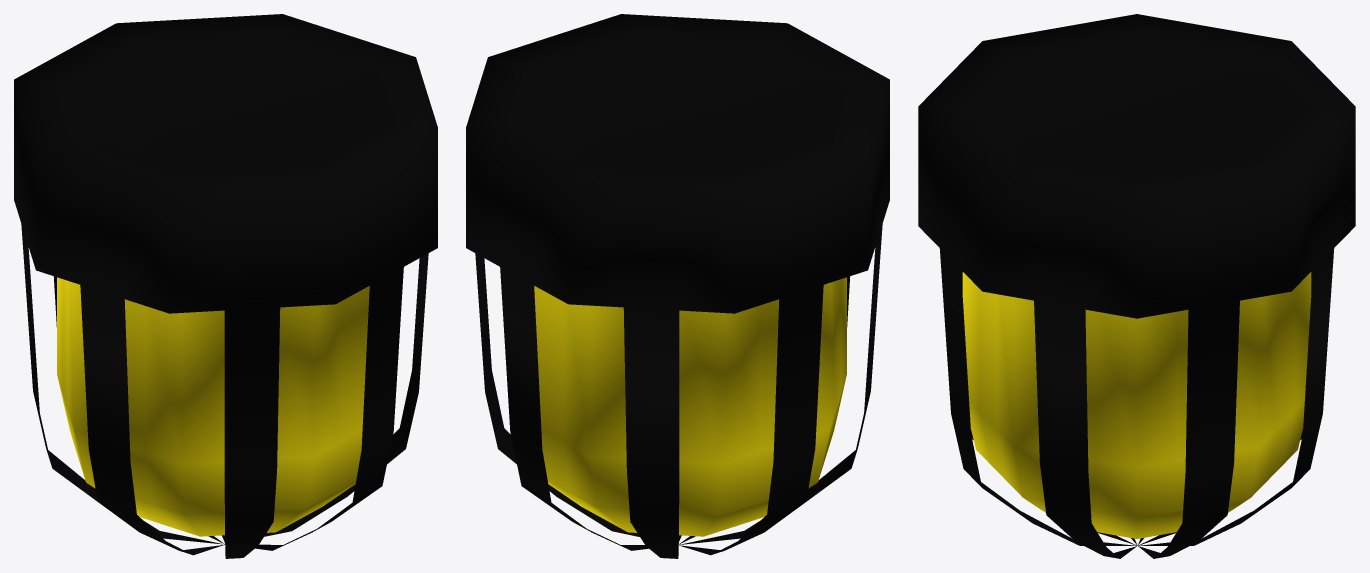
Rendered from lamp.glb.
3 renders of one model, left to right at view 1: azimuth 30°, elevation 25°; view 2: azimuth 150°, elevation 25°; view 3: azimuth 270°, elevation 25°, orthographic.
Visible parts, largest first — view 1: Cylinder; view 2: Cylinder; view 3: Cylinder.
Part boxes in pixels (<box>): Cylinder: <box>14,14,437,558</box>; Cylinder: <box>466,14,889,558</box>; Cylinder: <box>918,14,1355,558</box>.
Size of the model in its own units: 2.72 by 3.01 by 2.72.
